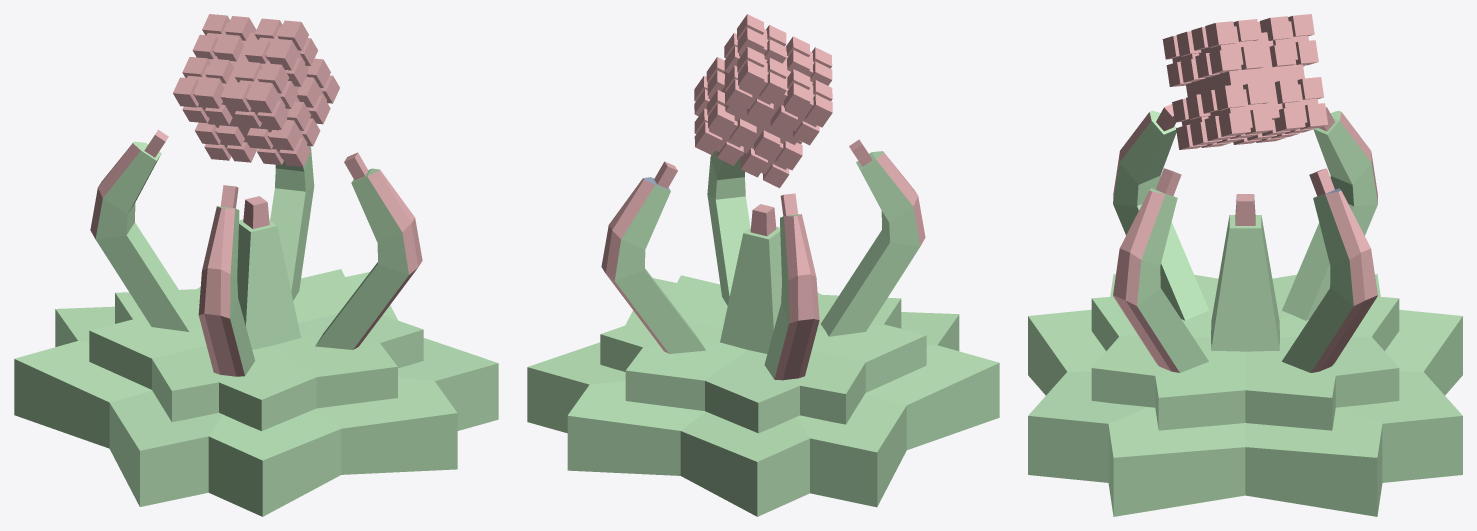
File: TorreNormalAVC3.fbx
3 views of the same model, side by side, from view 1: azimuth 30°, elevation 25°; view 2: azimuth 150°, elevation 25°; view 3: azimuth 270°, elevation 25° (orthographic). The views are drawn at different scales.
Visible parts, largest first — view 1: Base, Torre; view 2: Base, Torre; view 3: Base, Torre.
Boxes of the visible parts, x1=… form: Base: x1=14, y1=129, x2=498, y2=516; Torre: x1=173, y1=14, x2=339, y2=166; Base: x1=527, y1=139, x2=999, y2=516; Torre: x1=694, y1=14, x2=832, y2=188; Base: x1=1028, y1=104, x2=1462, y2=516; Torre: x1=1162, y1=14, x2=1328, y2=149.
Size of the model in its own units: 440 by 467 by 440.
